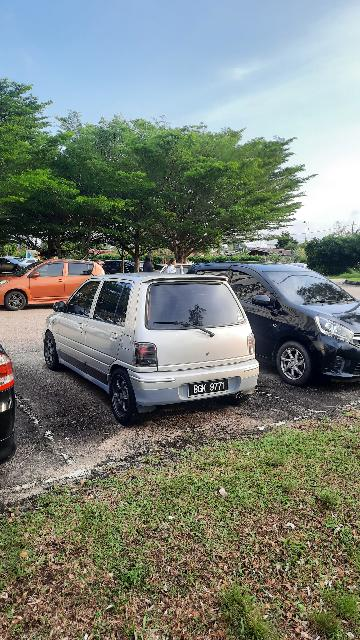License_Plate: (190, 377, 244, 403)
car: (41, 274, 259, 418), (183, 256, 360, 387), (1, 245, 119, 315)
